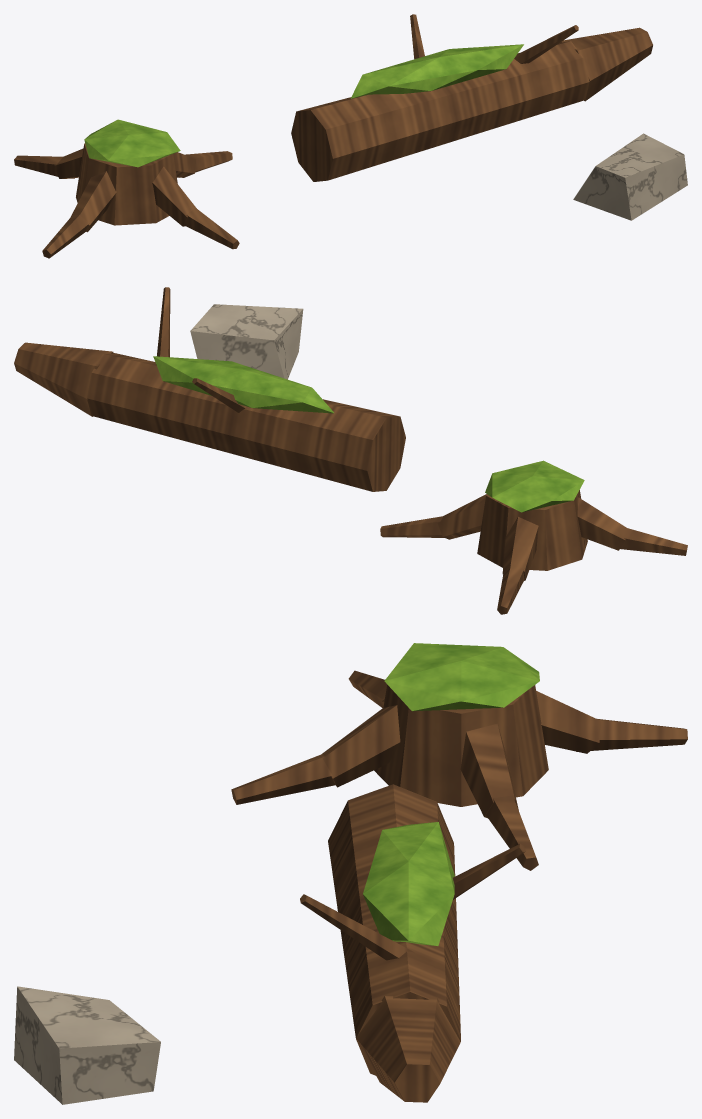
File: timber_roots.glb
3 views of the same model, one above another, from view 1: azimuth 30°, elevation 25°; view 2: azimuth 150°, elevation 25°; view 3: azimuth 270°, elevation 25° (orthographic). The views are drawn at different scales.
Parts seen in each view (by area): view 1: timber_roots; view 2: timber_roots; view 3: timber_roots.
Boxes of the visible parts, left/top/right/bottom form: timber_roots: left=14, top=14, right=687, bottom=258; timber_roots: left=14, top=287, right=687, bottom=614; timber_roots: left=14, top=643, right=687, bottom=1104.
Bounding box in the file's own units: 6.55 × 1.21 × 3.84.
3 materials, 3 textured.
